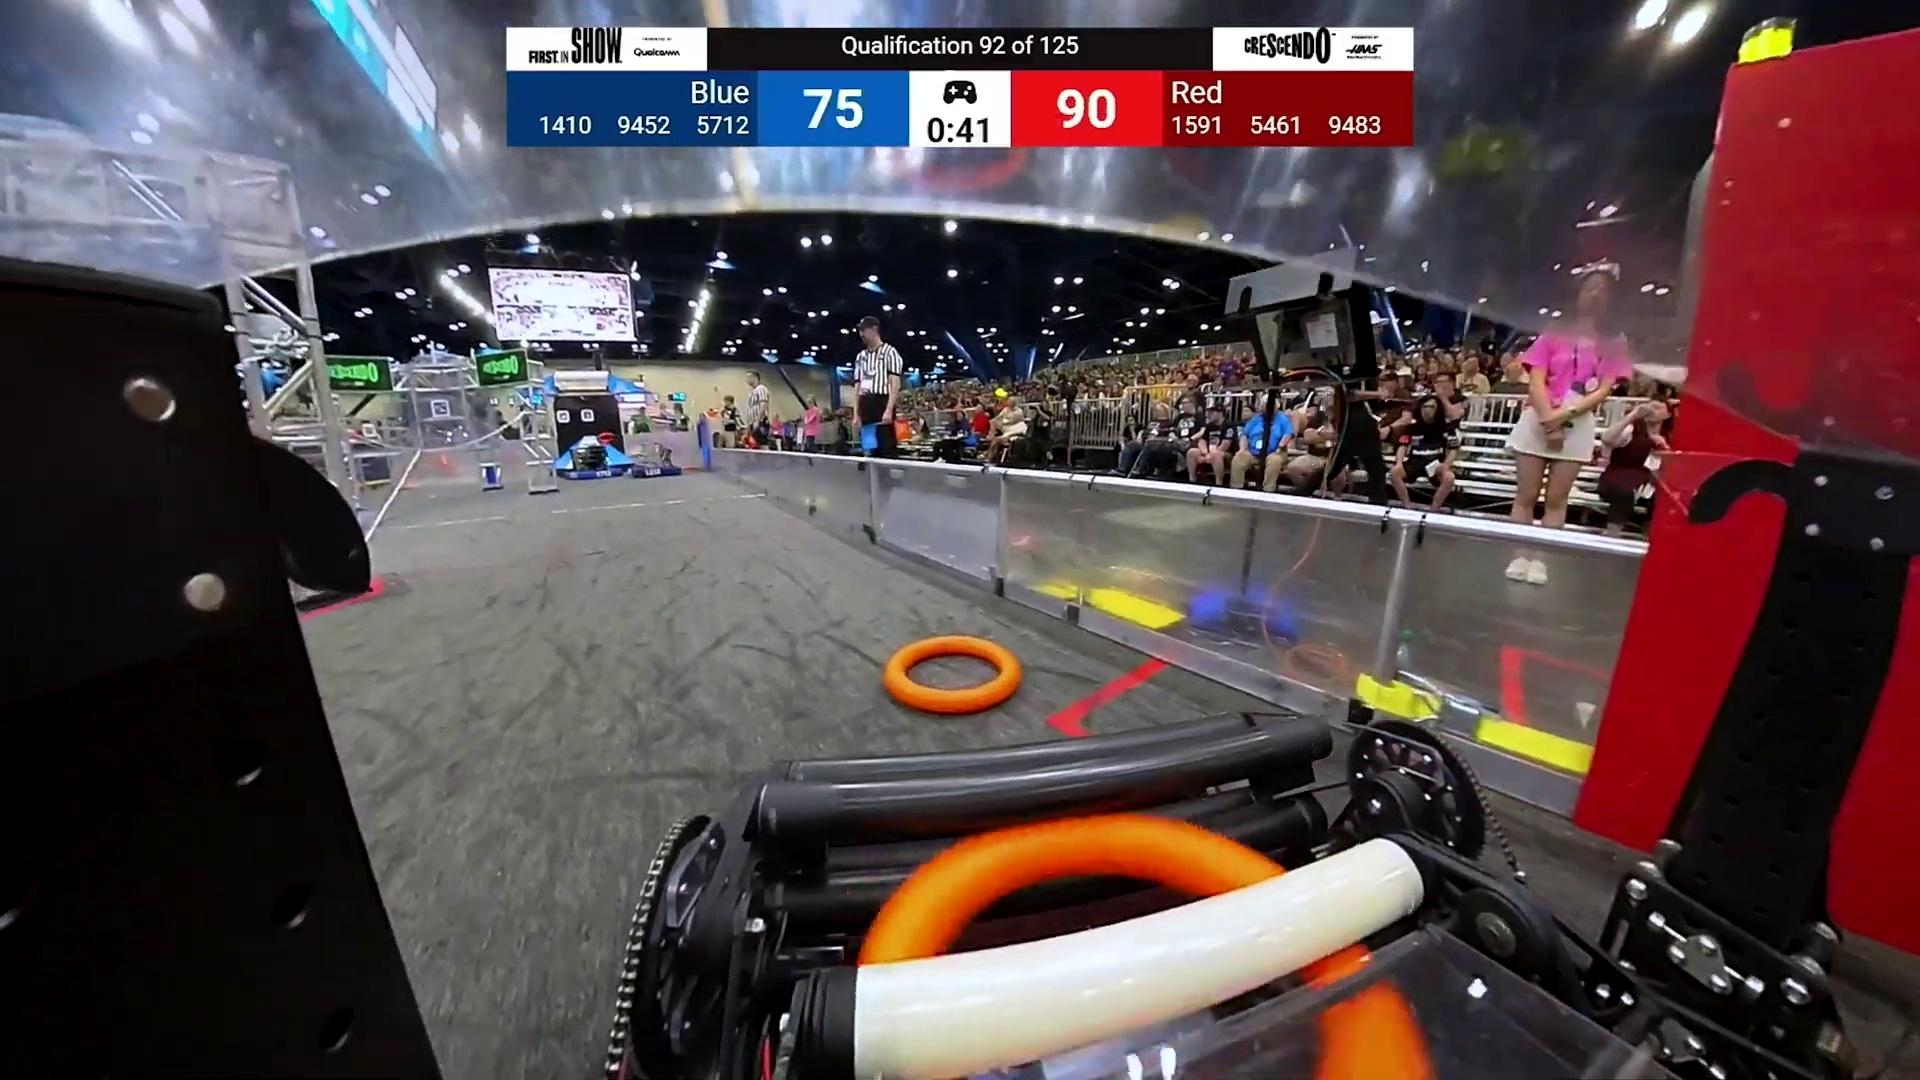robot: (563, 444, 624, 480), (630, 442, 682, 477)
